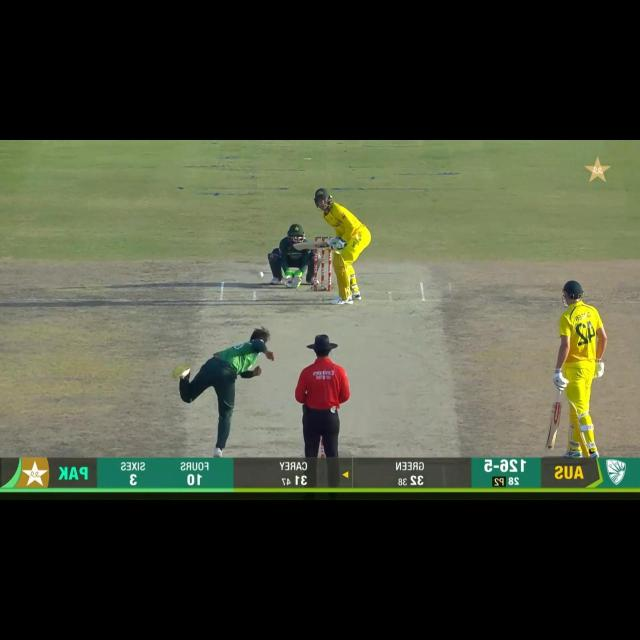bat: (543, 403, 564, 451), (292, 242, 334, 252)
toe: (544, 440, 556, 450), (291, 242, 301, 251)
